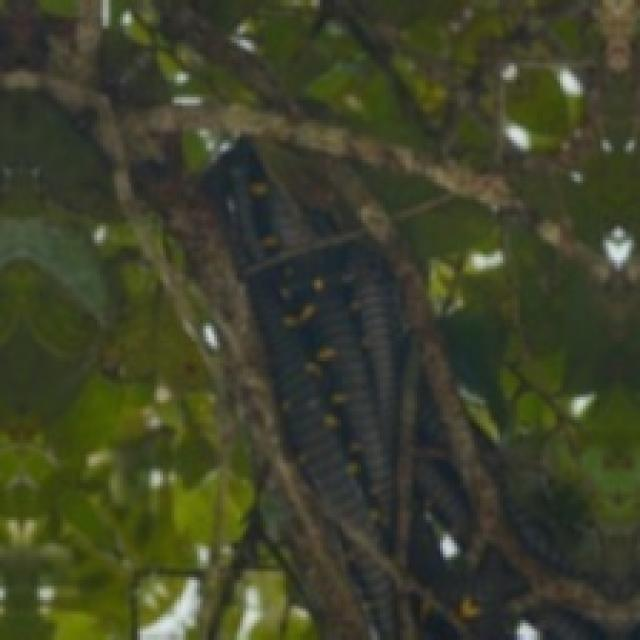mangrove cat snake: (206, 137, 637, 637)
